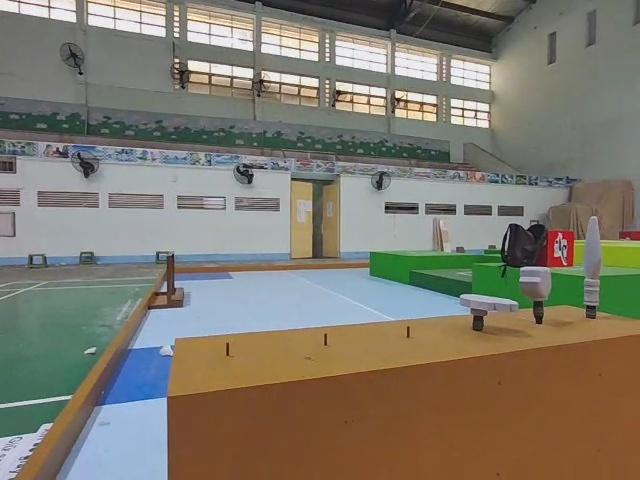Fist: (519, 260, 557, 323)
Hand: (464, 293, 519, 334)
Sph: (577, 215, 602, 321)
